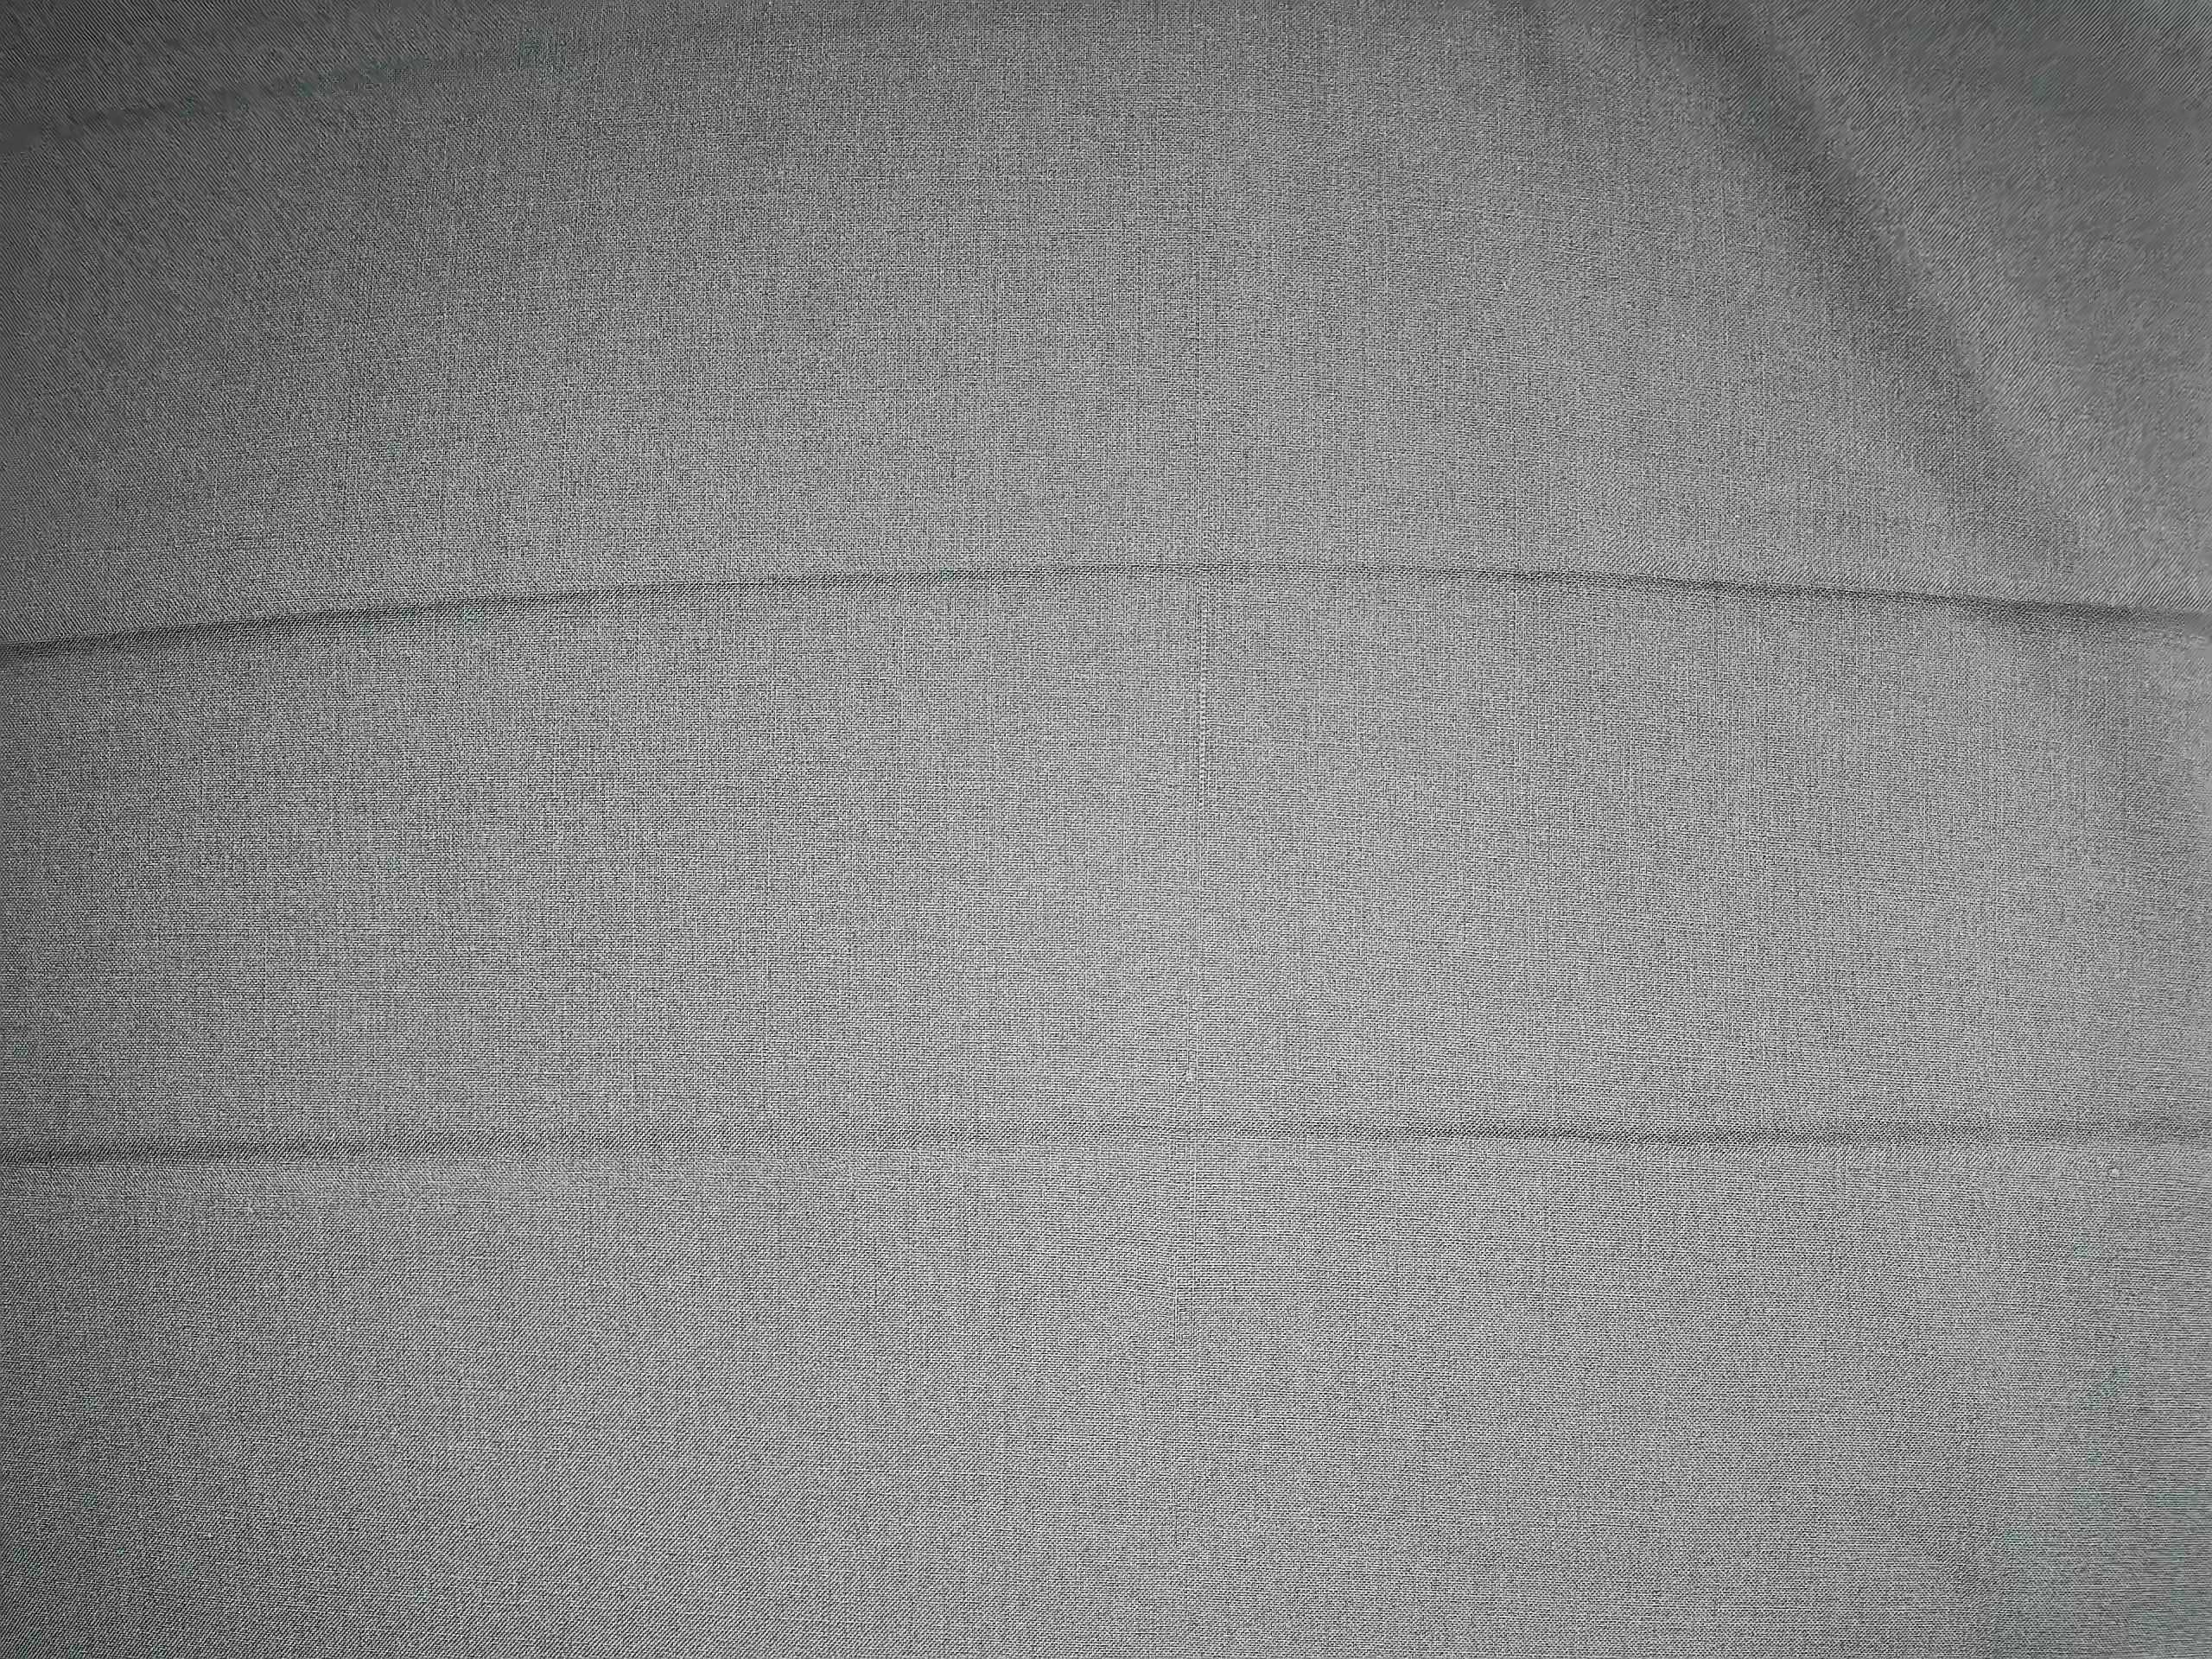hanging-warp: (1179, 488, 1224, 856)
